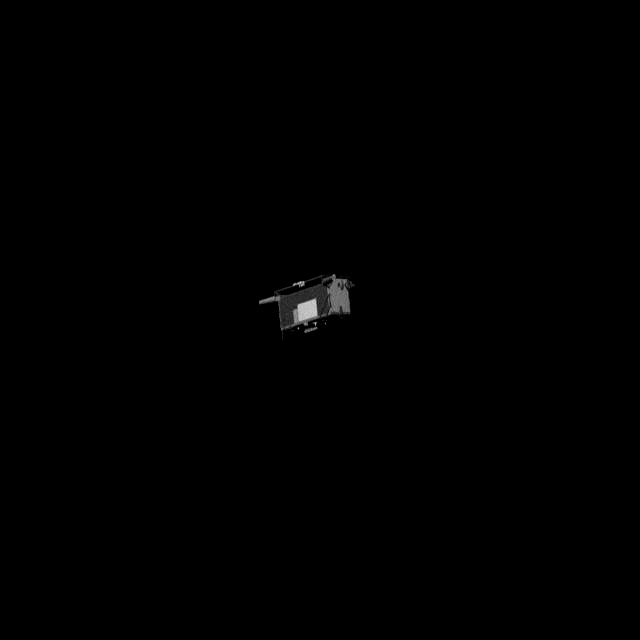medium_debris: (252, 254, 356, 338)
